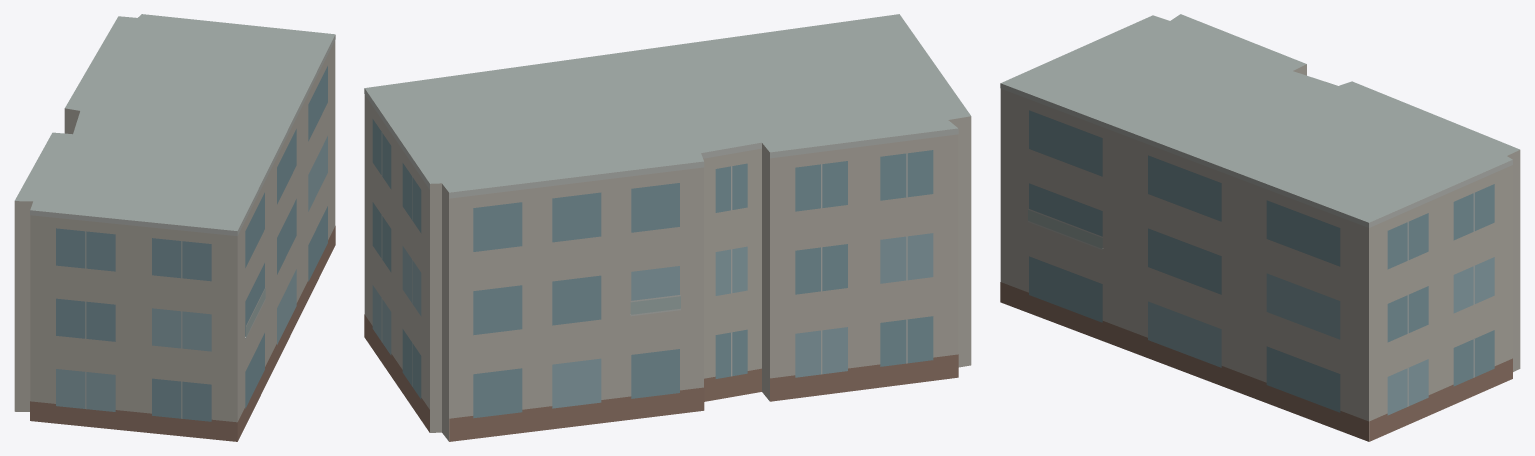
Rendered from survey-upis-32697710.glb.
3 views of the same model, side by side, from view 1: azimuth 30°, elevation 25°; view 2: azimuth 150°, elevation 25°; view 3: azimuth 270°, elevation 25° (orthographic). The views are drawn at different scales.
Parts seen in each view (by area): view 1: survey-upis-32697710.tmp; view 2: survey-upis-32697710.tmp; view 3: survey-upis-32697710.tmp.
Part boxes in pixels (x1=…): survey-upis-32697710.tmp: x1=14, y1=14, x2=335, y2=441; survey-upis-32697710.tmp: x1=364, y1=14, x2=971, y2=441; survey-upis-32697710.tmp: x1=1000, y1=14, x2=1520, y2=441.
Size of the model in its own units: 20.86 by 10.2 by 21.95.
